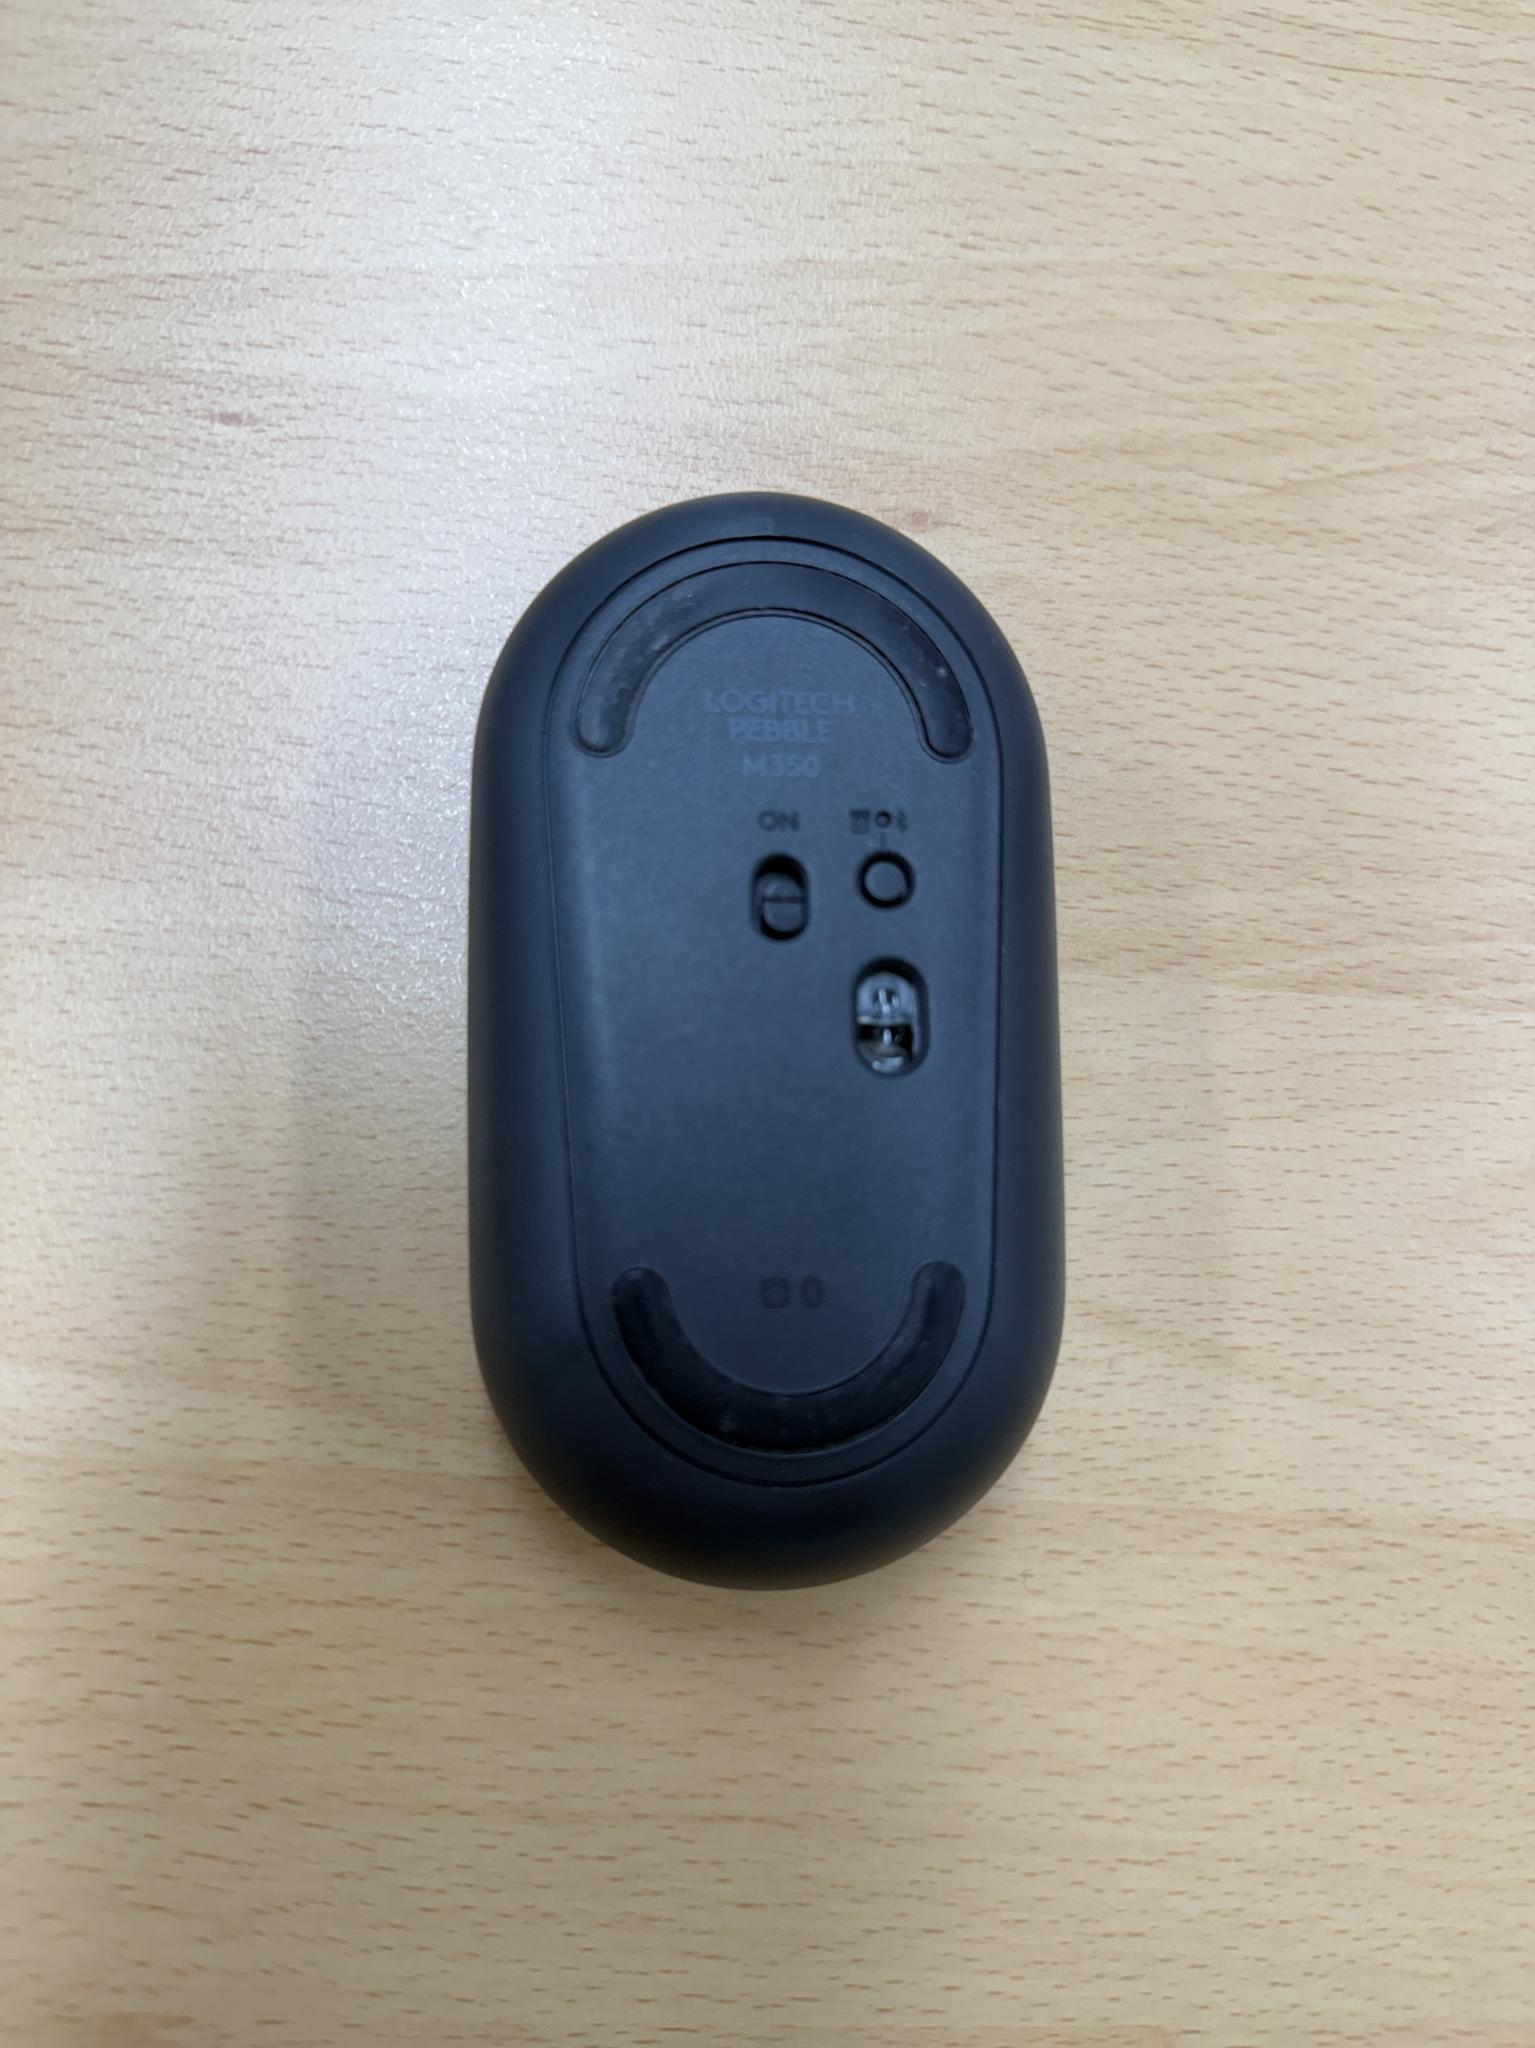back: (463, 482, 1072, 1598)
